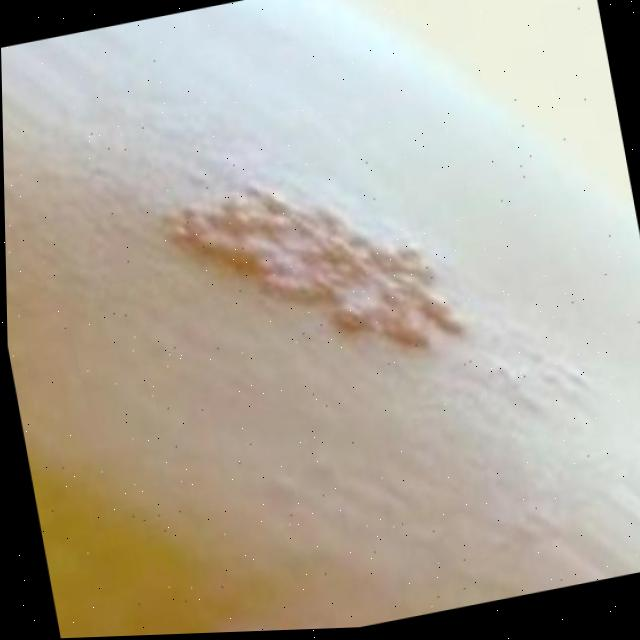Shingles: (155, 158, 467, 397)
